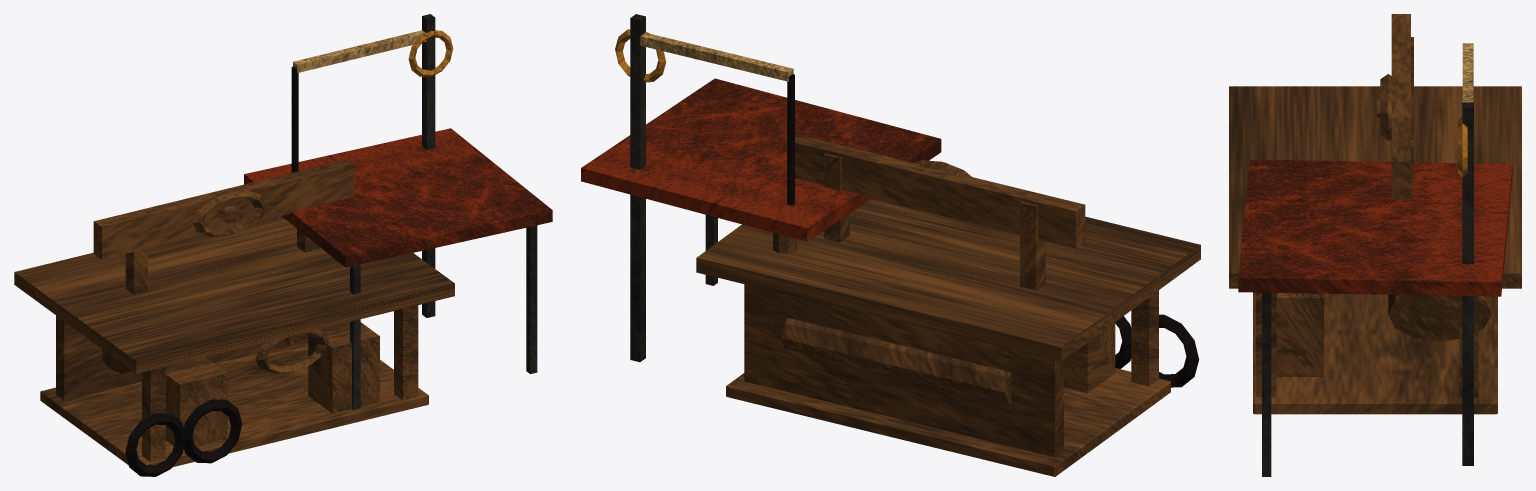
Rendered from middle-way-station.glb.
3 views of the same model, side by side, from view 1: azimuth 30°, elevation 25°; view 2: azimuth 150°, elevation 25°; view 3: azimuth 270°, elevation 25° (orthographic). The views are drawn at different scales.
Visible parts, largest first — view 1: middle-way-station; view 2: middle-way-station; view 3: middle-way-station.
Boxes of the visible parts, left/top/right/bottom form: middle-way-station: left=14, top=14, right=552, bottom=476; middle-way-station: left=581, top=14, right=1200, bottom=476; middle-way-station: left=1229, top=14, right=1521, bottom=476.
Bounding box in the file's own units: 10.05 × 6.71 × 4.9.
Materials: 1 (1 with a texture image).
